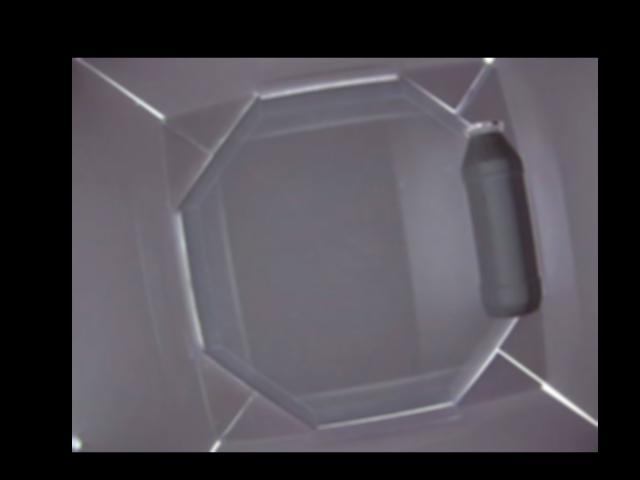Bottle: (463, 120, 545, 319)
